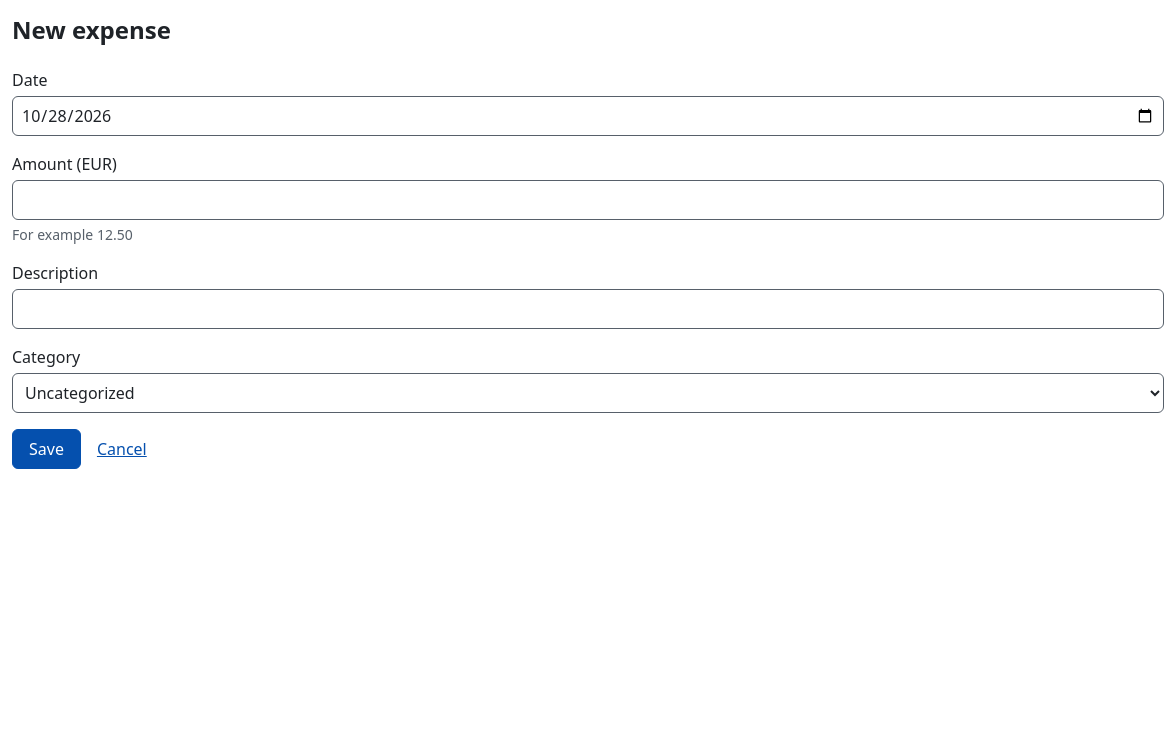
Scenario: ExpenseFormView: new › shows the field messages and focuses the first invalid field without sending
The image size is (1176, 732).
Type "abc" into the field with id "expense-amount" at {"x": 588, "y": 200}, box [12,180,1164,220]
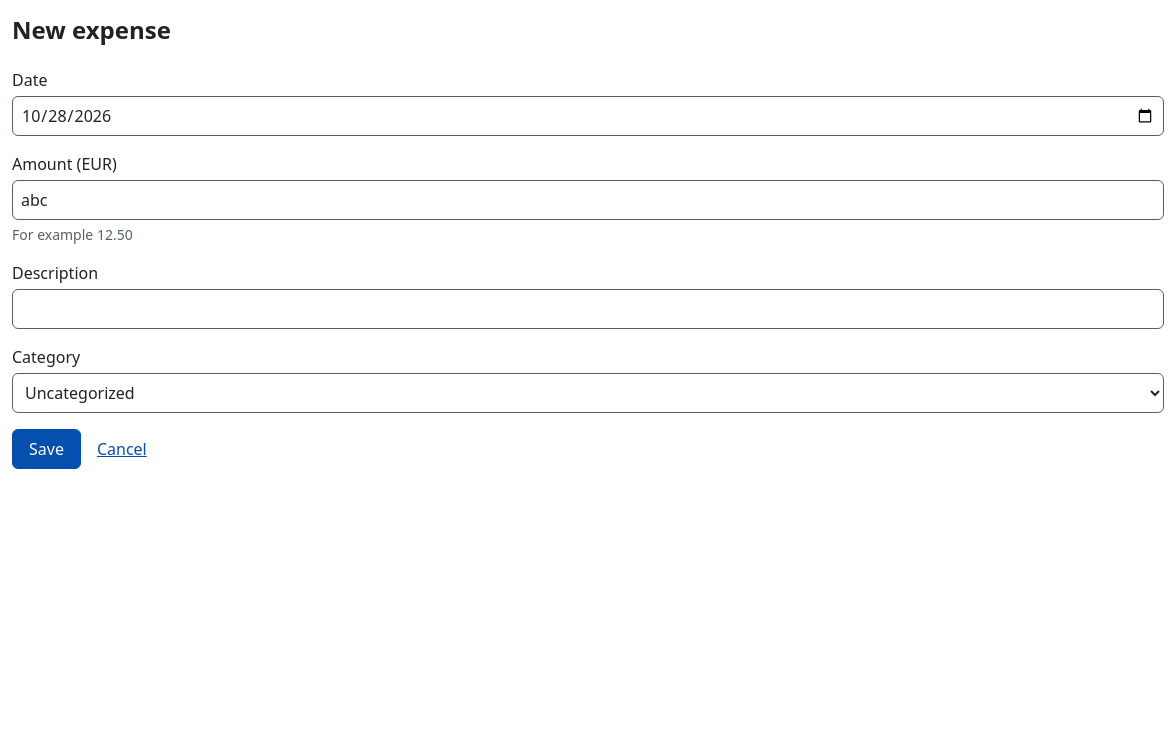
Submit the form, box [12,68,1164,469]
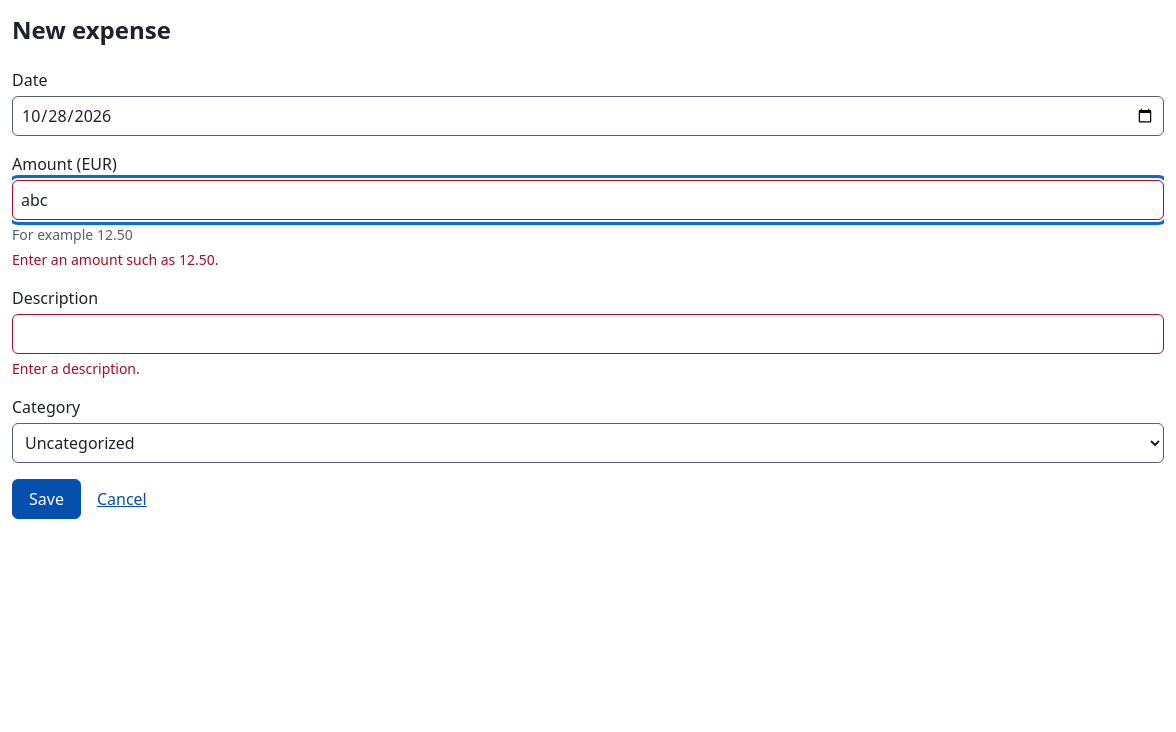
expect the text with id "expense-amount-error" reads "Enter an amount such as 12.50.": met, box [12,250,218,269]
expect the text with id "expense-description-error" reads "Enter a description.": met, box [12,359,140,378]
